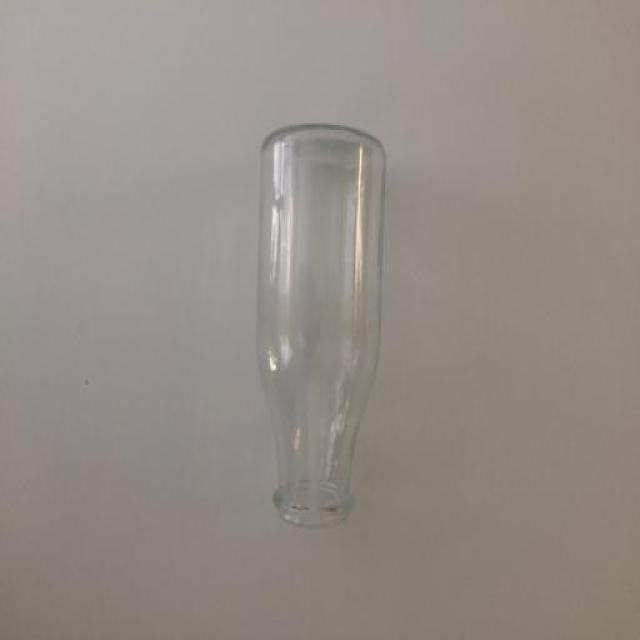glass: (252, 123, 389, 532)
